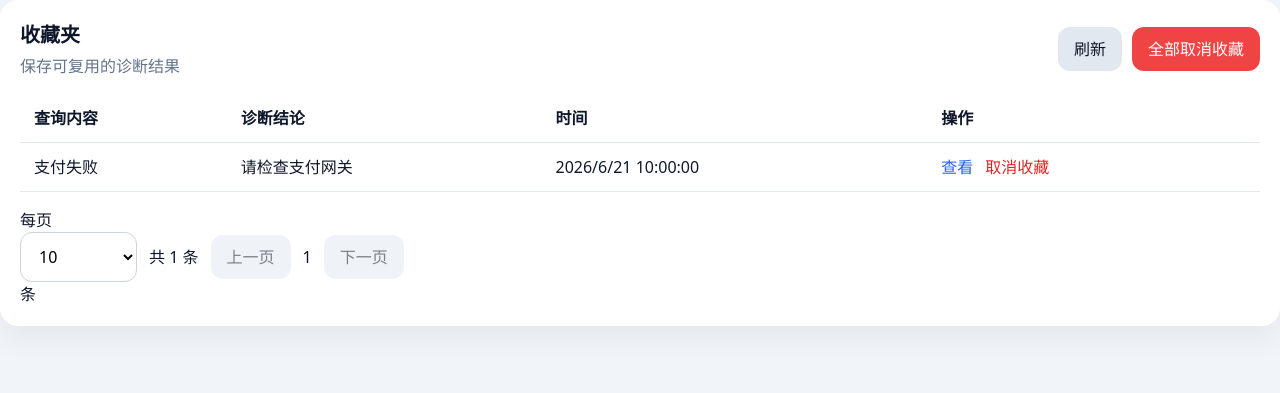
Test: HistoryPage › 全部删除失败时不重置现有分页内容
This screenshot has width=1280, height=393.
Check: the text "支付失败" is shown, box [20,142,227,192]
Click the button "全部取消收藏" at (1196,49), box [1132,27,1260,71]
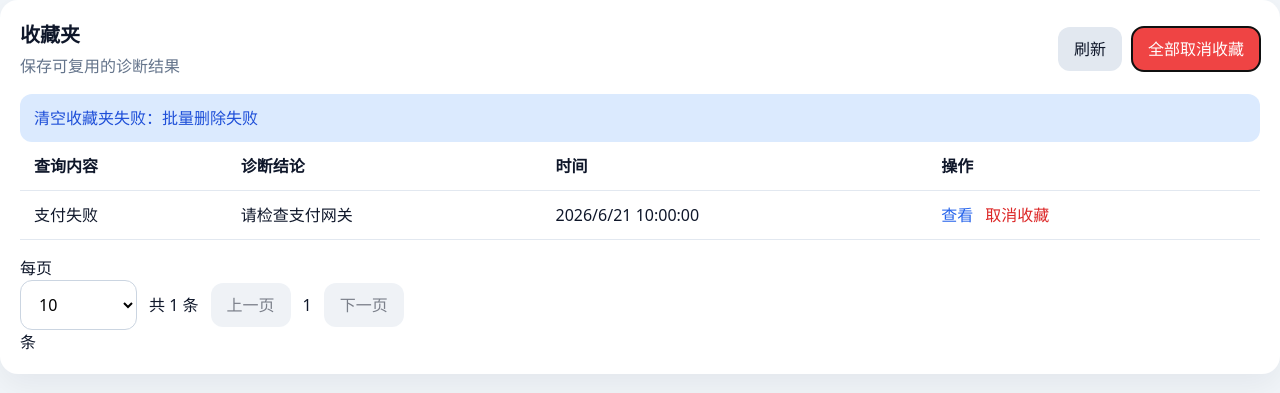
Check: the text "支付失败" is shown, box [20,190,227,240]
Check: the text "清空收藏夹失败：批量删除失败" is shown, box [20,94,1260,142]
